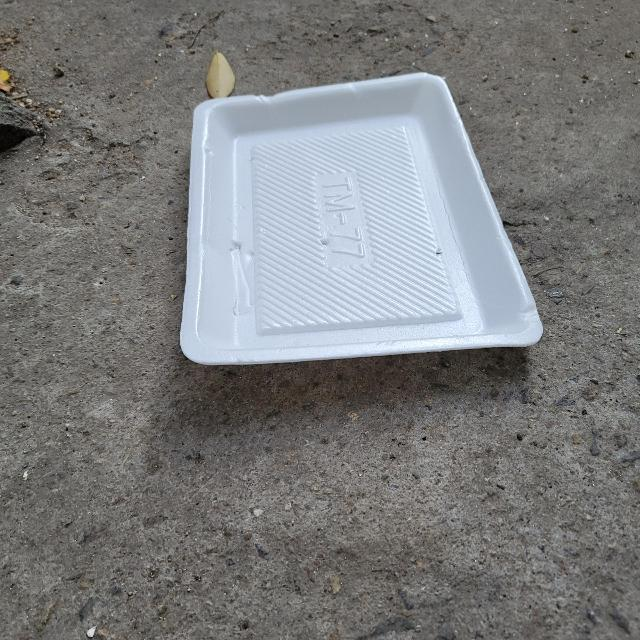Recipiente plastico: (180, 72, 542, 364)
